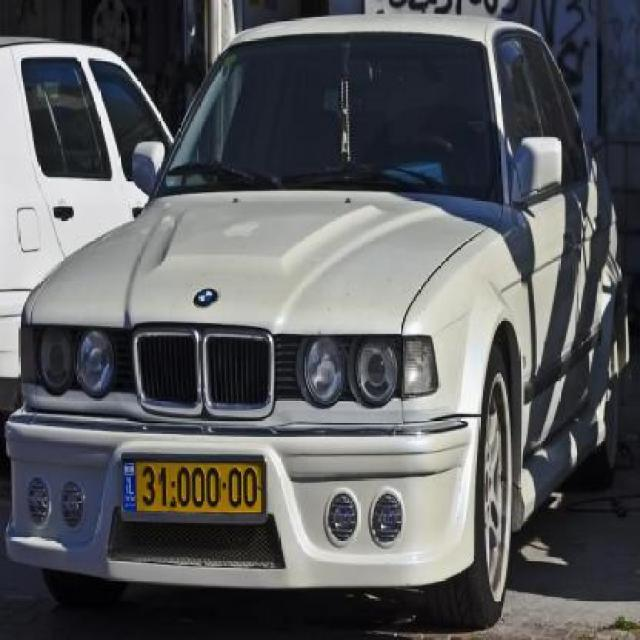License-Plates: (120, 458, 267, 516)
